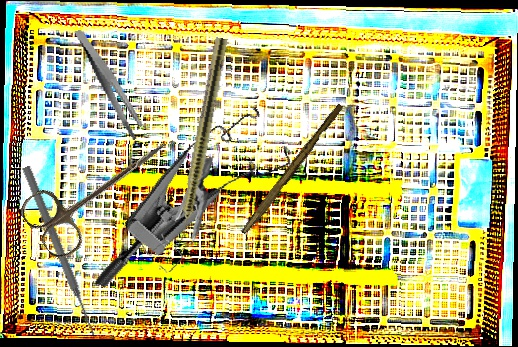Dressing Forceps: (74, 20, 146, 148)
Handpiece: (171, 36, 229, 254)
Iris Scissors: (15, 112, 185, 265)
Pusher: (20, 164, 99, 338)
Scalpel Handle: (240, 101, 345, 238)
Speculum: (92, 80, 306, 337), (133, 157, 225, 275)
